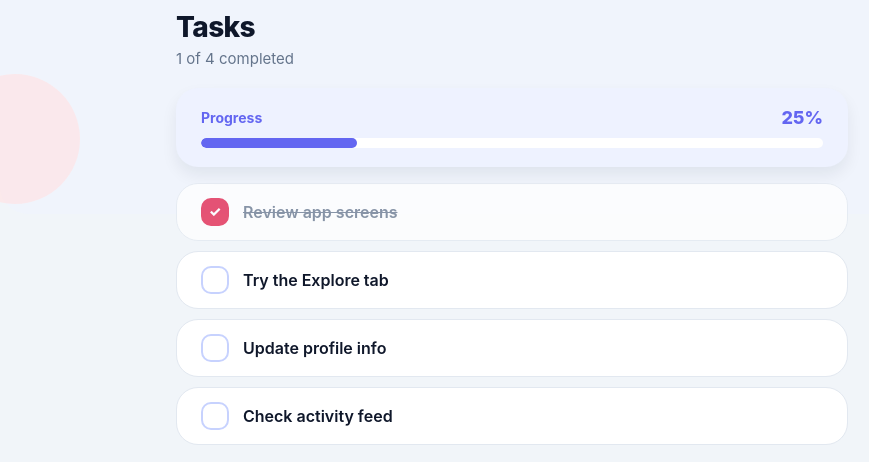
Test case: TasksScreen › toggles a task from done to not done and updates the count
Click the button "✓ Review app screens" at (512, 212), box [176,183,848,241]
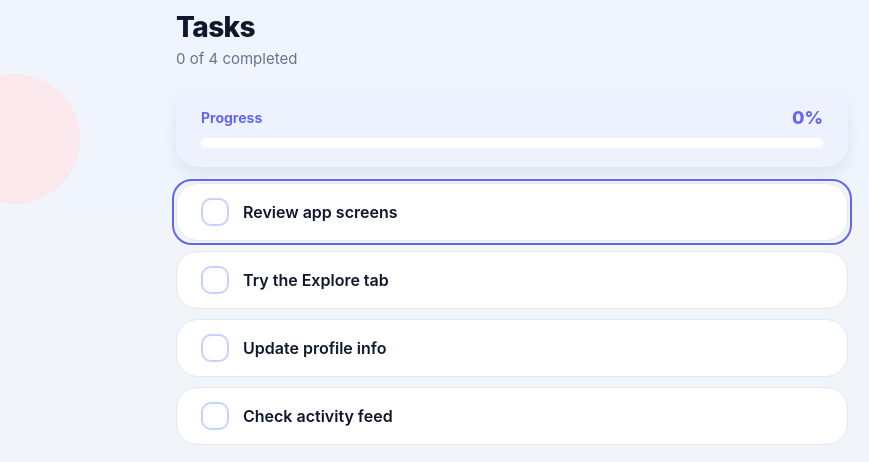
Expected: the text "0 of 4 completed" is shown, [176,49,297,68]
